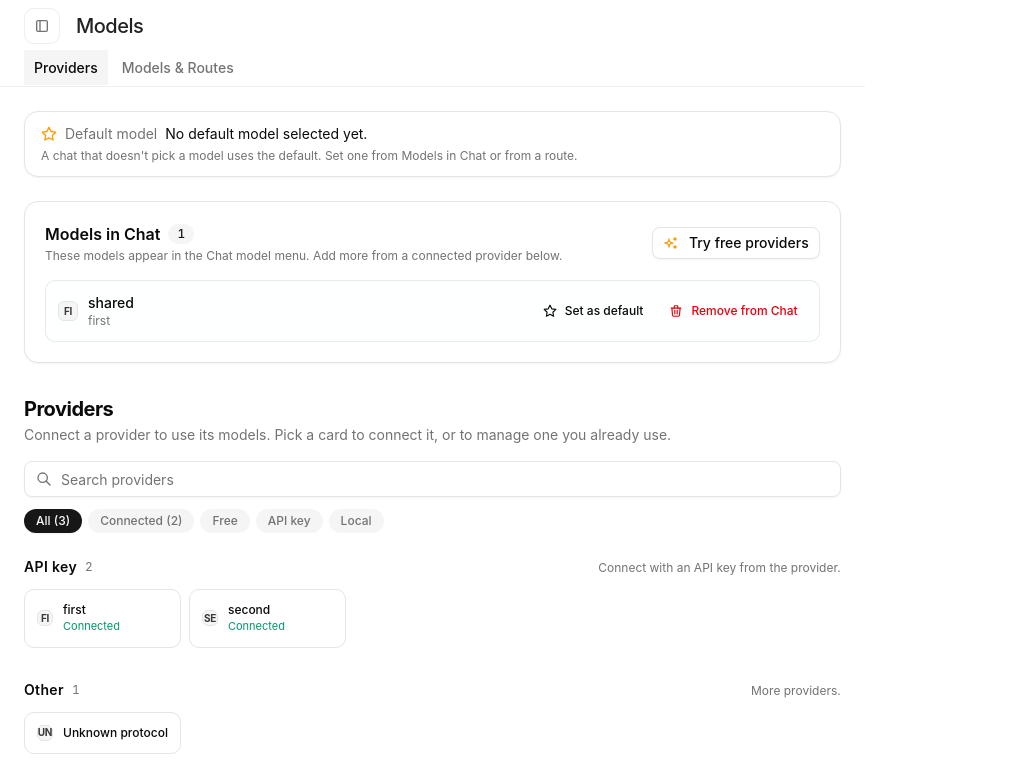
Test: ModelsWorkspace › searches a long catalog and shows it fifty models at a time
The width and height of the screenshot is (1024, 762).
Click the button with aria-label "Manage first".
click(102, 618)  # box [24,589,181,648]
(page scrolled)
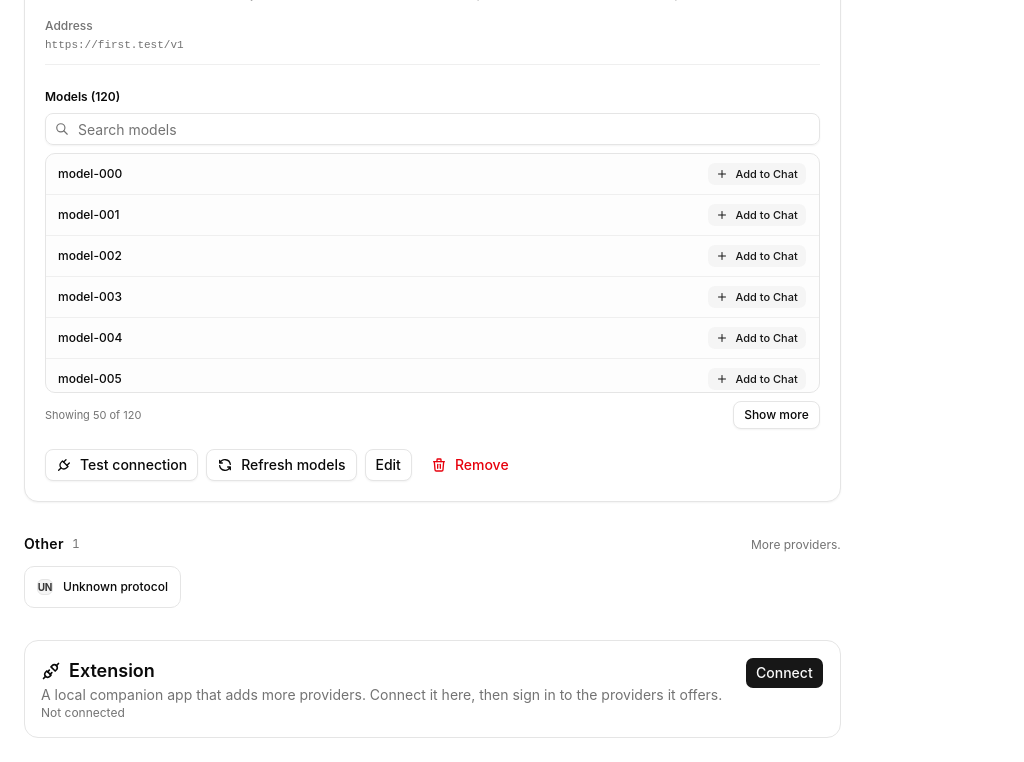
Check: the element "first" shows "Showing 50 of 120", box [45,408,141,422]
Click the button "Show more".
click(776, 415)  # box [733,401,820,429]
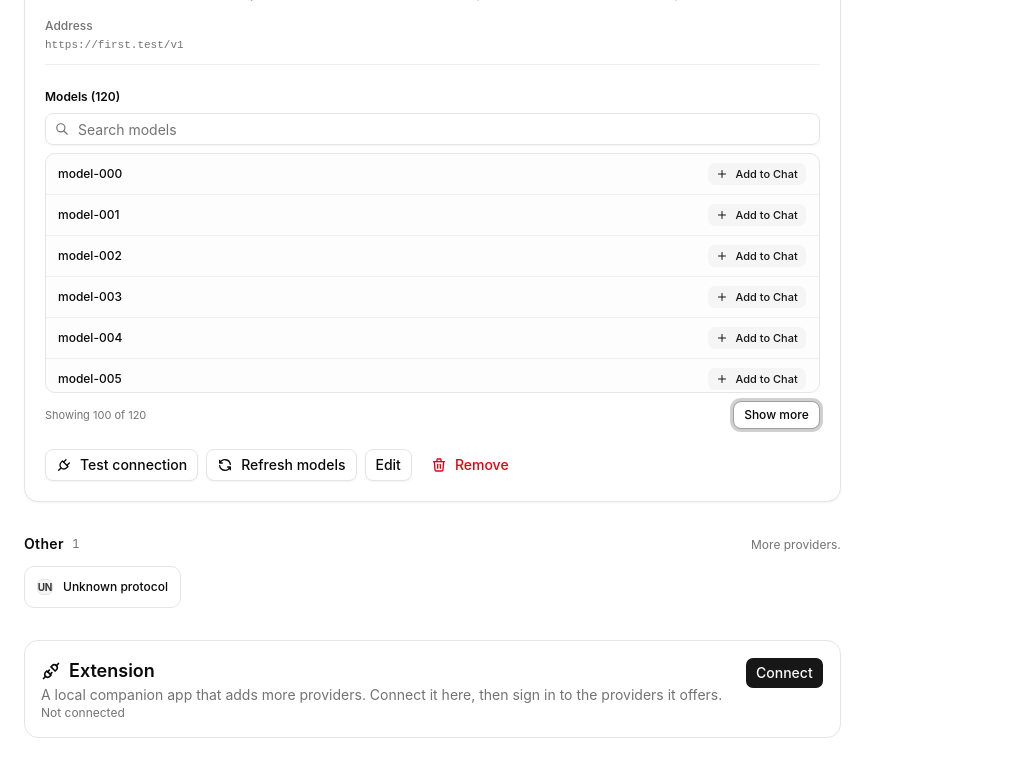
Click the button "Show more".
click(776, 415)  # box [733,401,820,429]
(page scrolled)
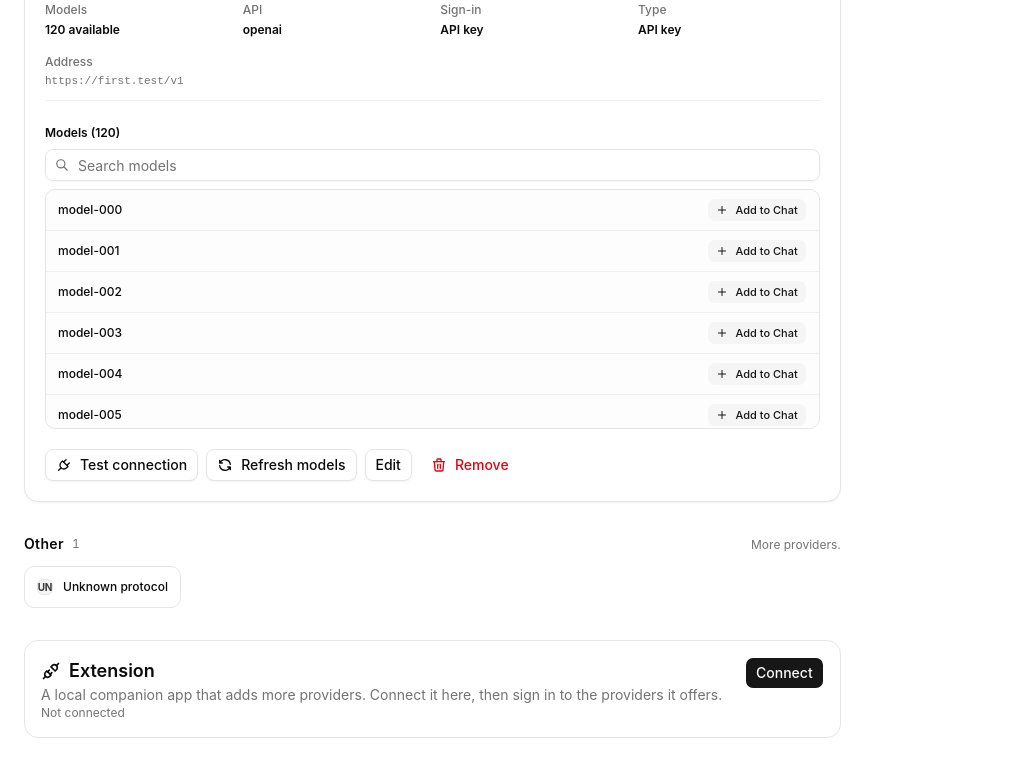
Check: the button "Show more" is gone
Type "model-11" into the search field labelled "Search models".
click(432, 165); type("model-11")  # box [45,149,820,181]
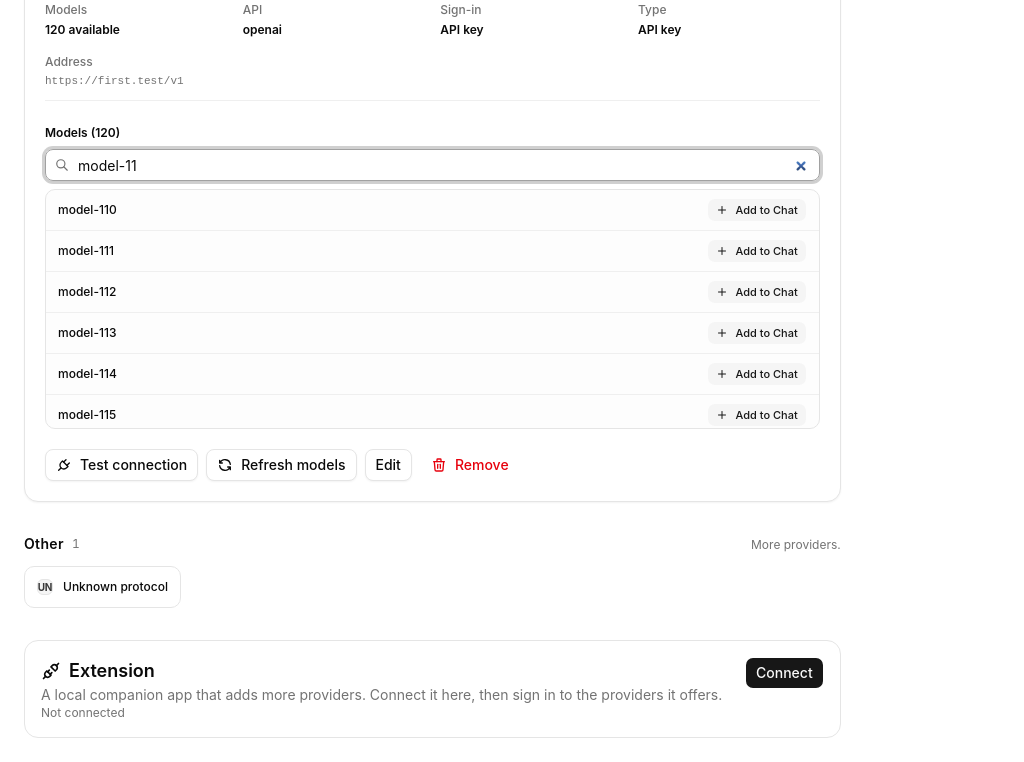
Replace the text in the search field named "Search models" with "nothing-like-it" at (432, 165), box [45,149,820,181]
(page scrolled)
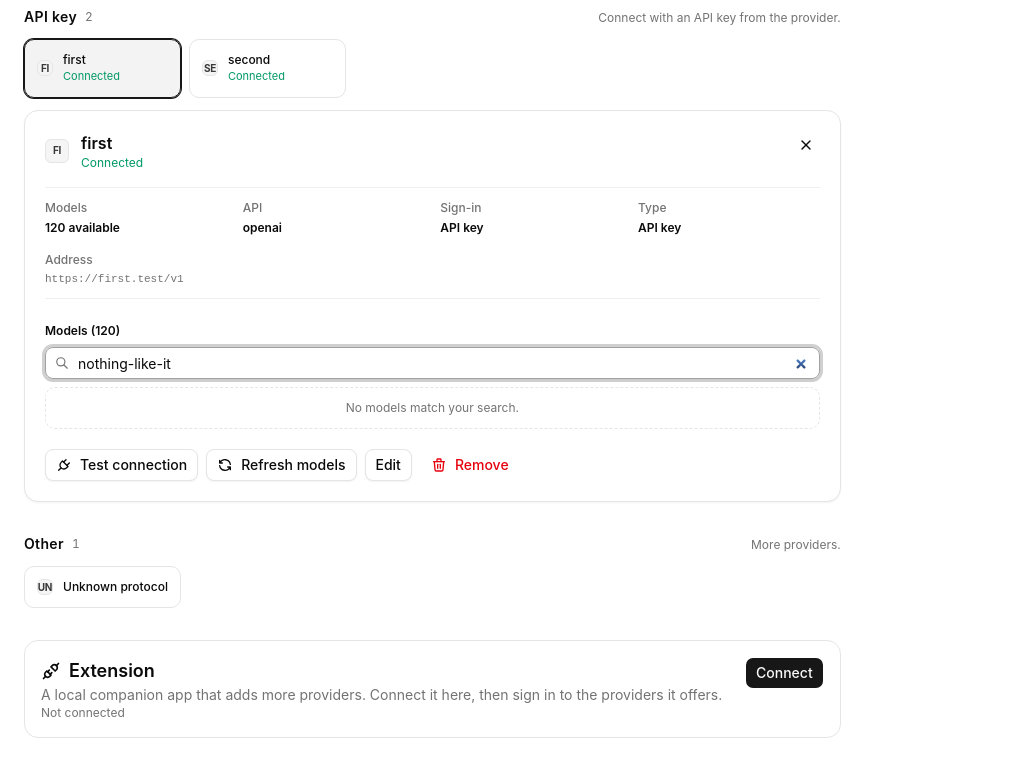
Check: the text "No models match your search." is shown, box [45,387,820,429]
